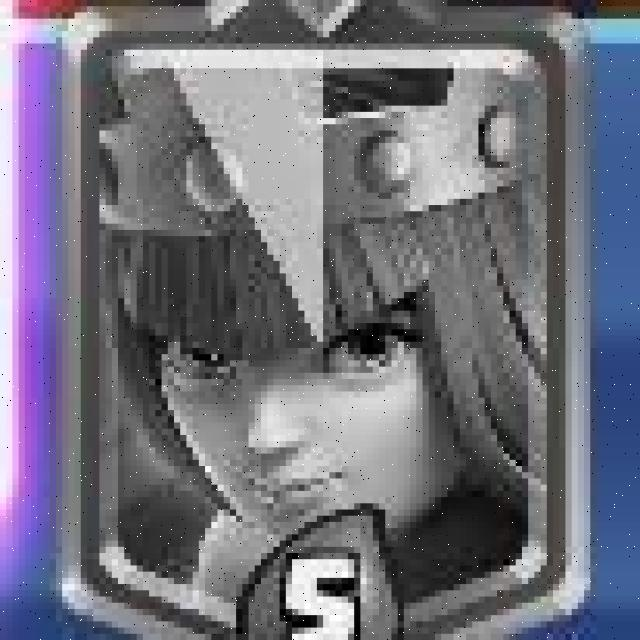Archer_Queen: (50, 1, 600, 640)
